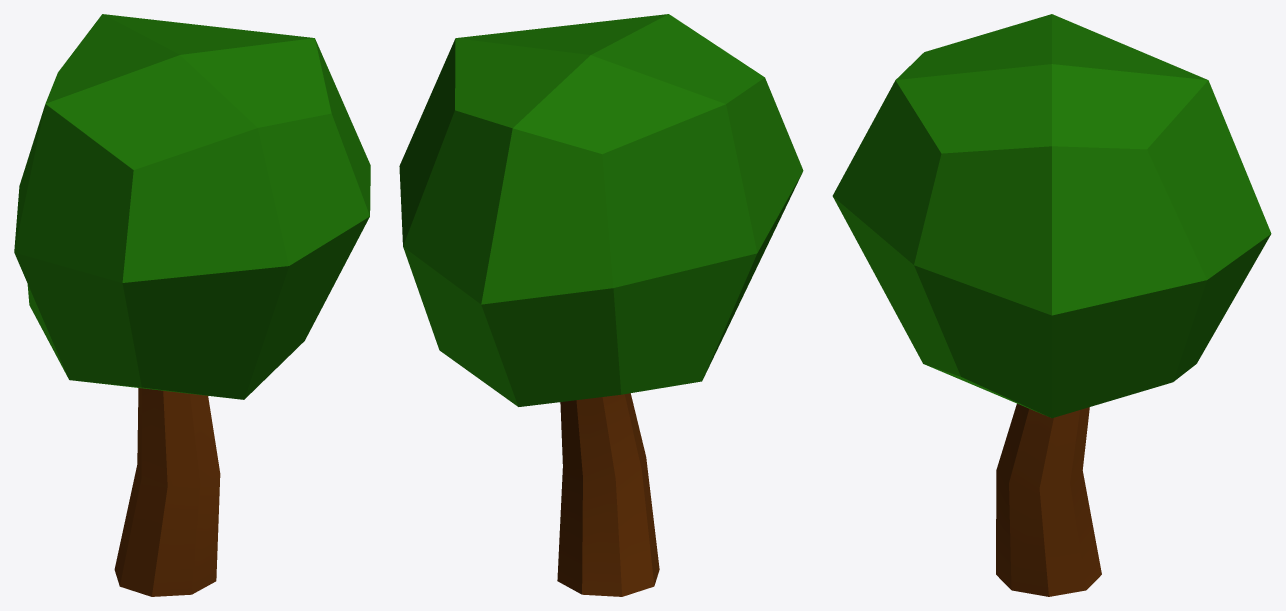
The model's file is tree-01.fbx.
3 renders of one model, left to right at view 1: azimuth 30°, elevation 25°; view 2: azimuth 150°, elevation 25°; view 3: azimuth 270°, elevation 25°, orthographic.
Visible parts, largest first — view 1: tree, trunk; view 2: tree, trunk; view 3: tree, trunk.
Part boxes in pixels (x1,y1,x2,y2): tree: (14, 14, 370, 399); trunk: (114, 388, 220, 596); tree: (399, 14, 803, 406); trunk: (557, 393, 659, 596); tree: (832, 14, 1271, 418); trunk: (996, 403, 1101, 596).
Size of the model in its own units: 2.79 by 3.86 by 2.96.
